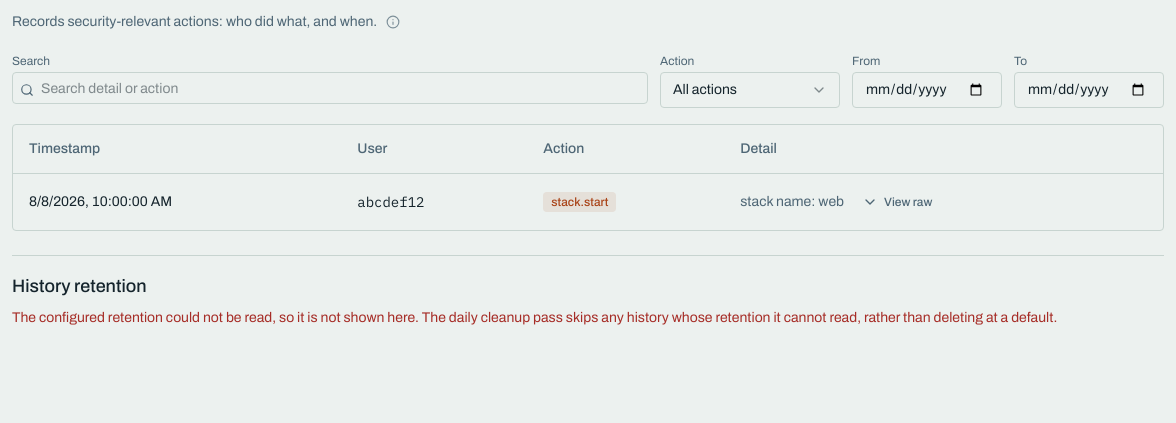
Scenario: AuditLogContent — the table › expands and collapses the pretty-printed original
Click the button with aria-label "View raw detail": (897, 202) [852,190,942,214]
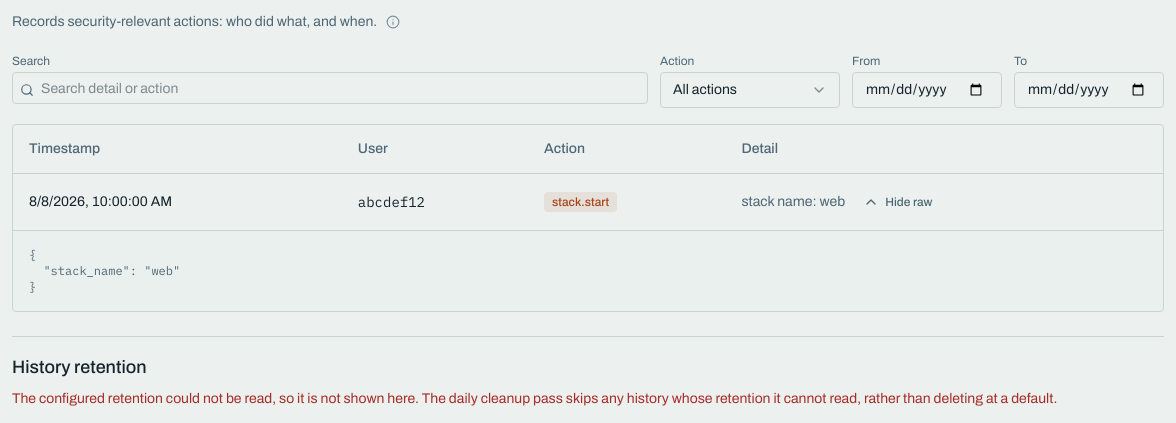
Check: the button with aria-label "Hide raw detail" is expanded
Check: the text "{ \"stack_name\": \"web\" }" is shown, box [29,246,180,294]
Click the button with aria-label "Hide raw detail": (898, 202) [853,190,942,214]
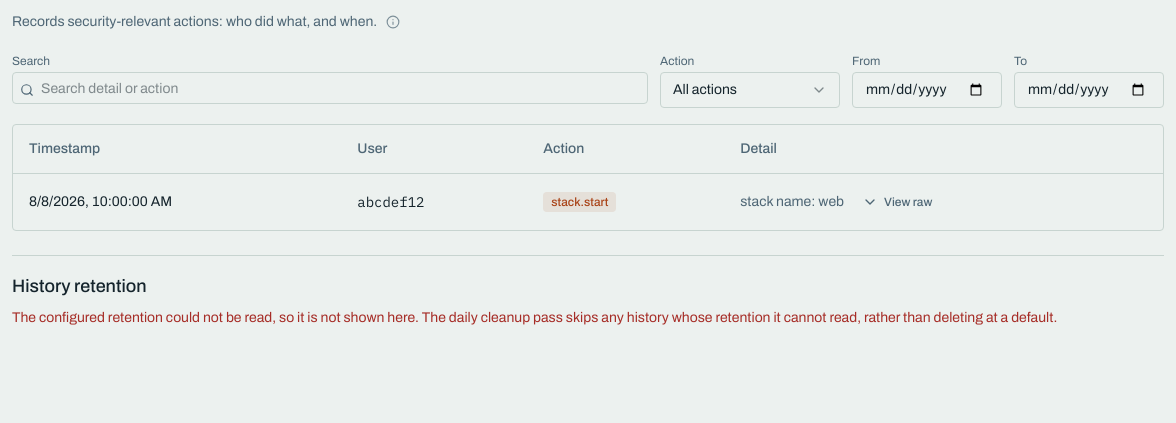
Check: the text "\"stack_name\": \"web\"" is gone
